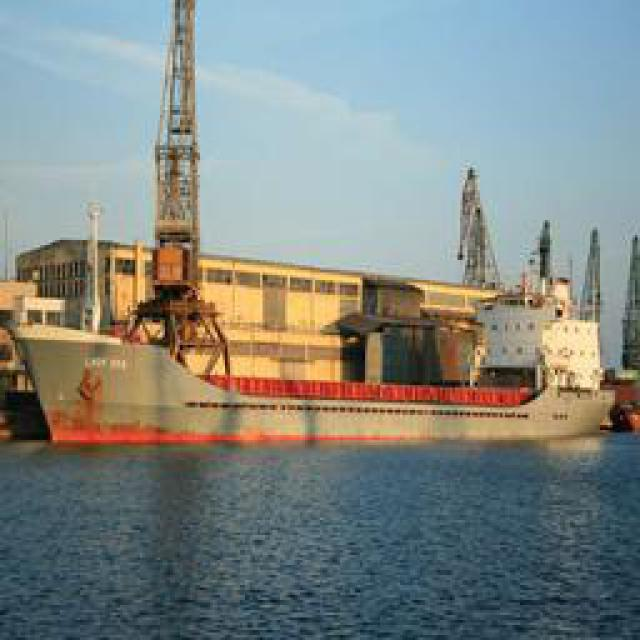Ship: (10, 206, 610, 441)
